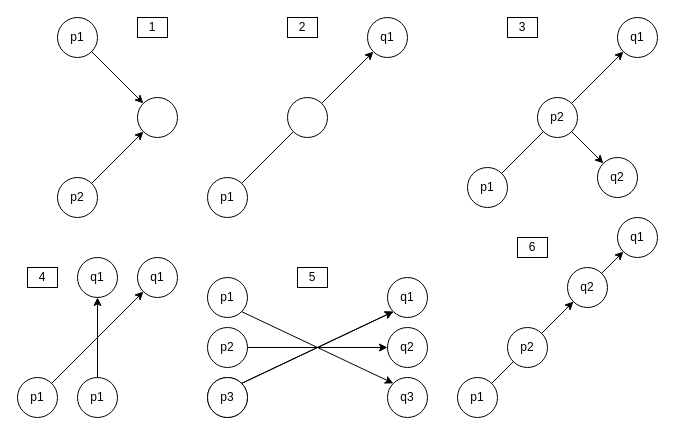
Some shapes in this 675 by 435 pixel diagram are drawn without their labels. Here are the shapes that lost their labels. From the top down, the centre of each, then its label:
pixel 157 117: q1/2
pixel 307 117: pq2
